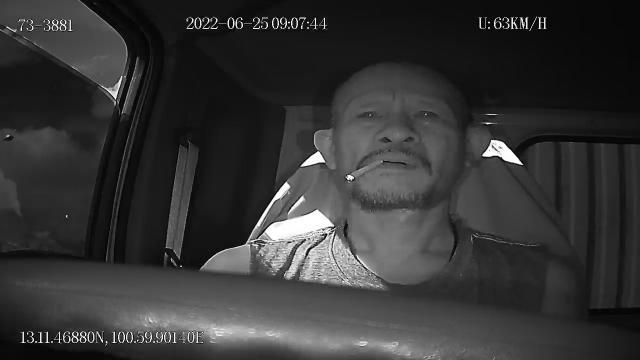SafeDriving: (406, 99, 444, 128), (350, 100, 390, 127)
Smoking: (344, 158, 384, 182)
